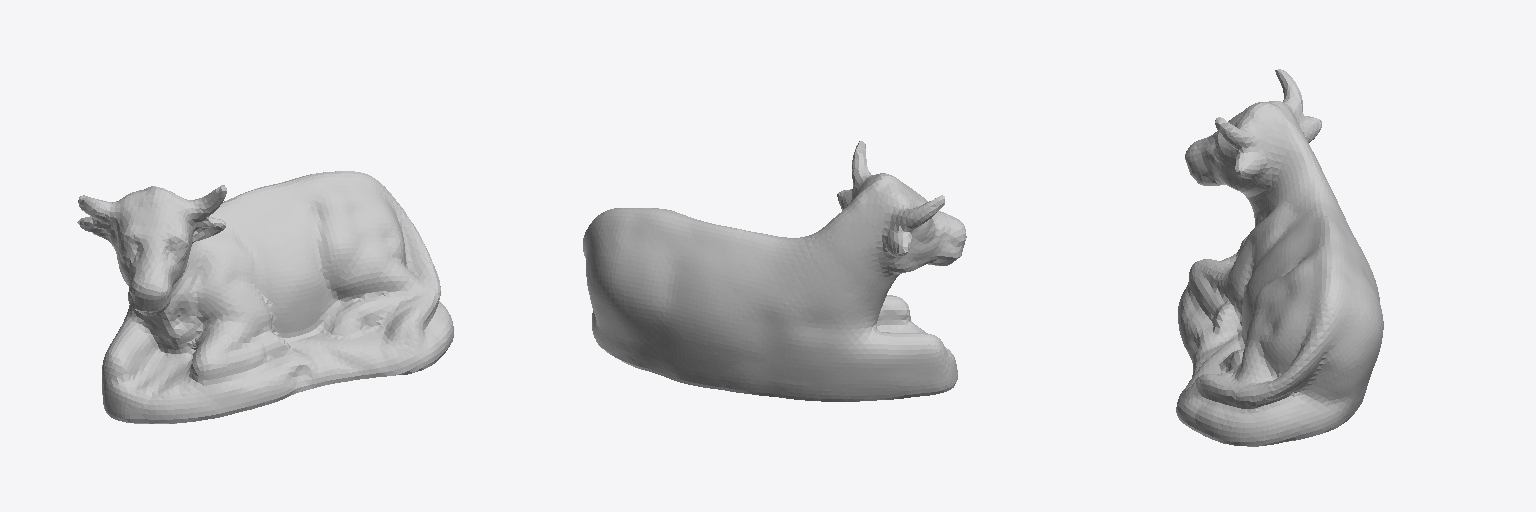
File: bue.obj
3 renders of one model, left to right at view 1: azimuth 30°, elevation 25°; view 2: azimuth 150°, elevation 25°; view 3: azimuth 270°, elevation 25°, orthographic.
Parts seen in each view (by area): view 1: Vaca_LP2; view 2: Vaca_LP2; view 3: Vaca_LP2.
Part boxes in pixels (bbox=[...]): Vaca_LP2: bbox=[77, 171, 453, 423]; Vaca_LP2: bbox=[583, 141, 966, 401]; Vaca_LP2: bbox=[1176, 69, 1383, 446].
Bounding box in the file's own units: 0.174 × 0.1015 × 0.0883.